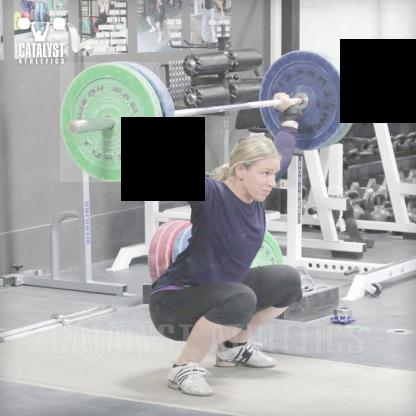barbell: (61, 63, 161, 183)
